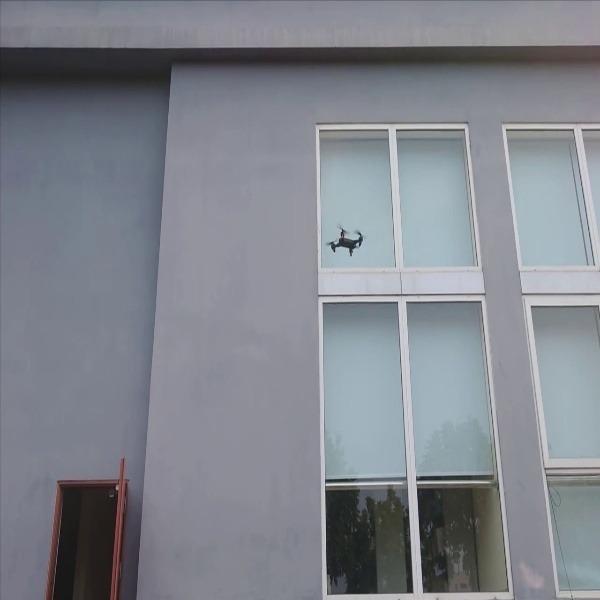drone: (325, 218, 371, 263)
